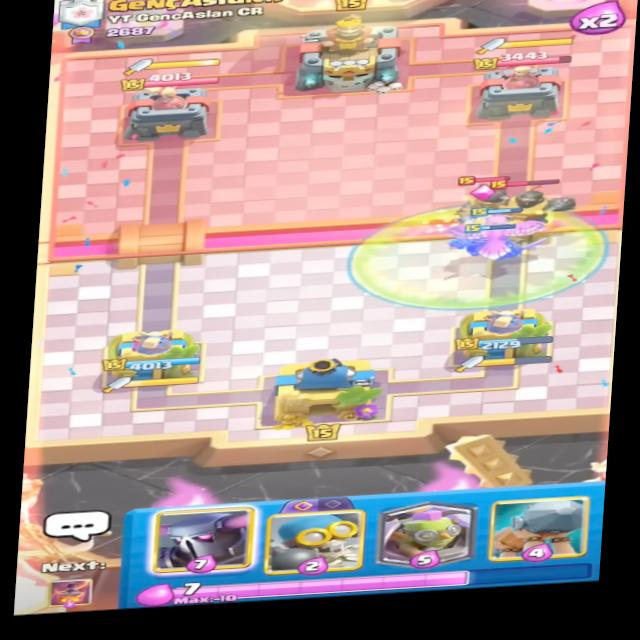mega-knight: (479, 176, 571, 235)
prince: (454, 168, 524, 227)
